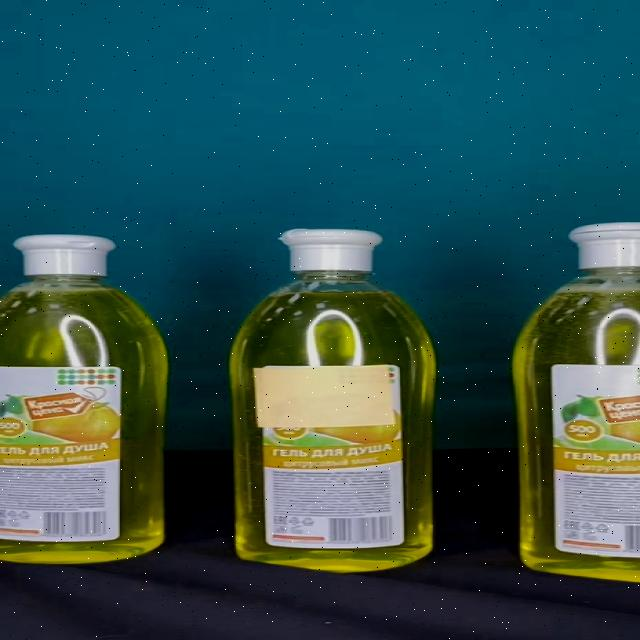Bottle: (230, 228, 434, 572), (0, 234, 169, 566)
Cap: (279, 229, 383, 271), (13, 235, 116, 276)
